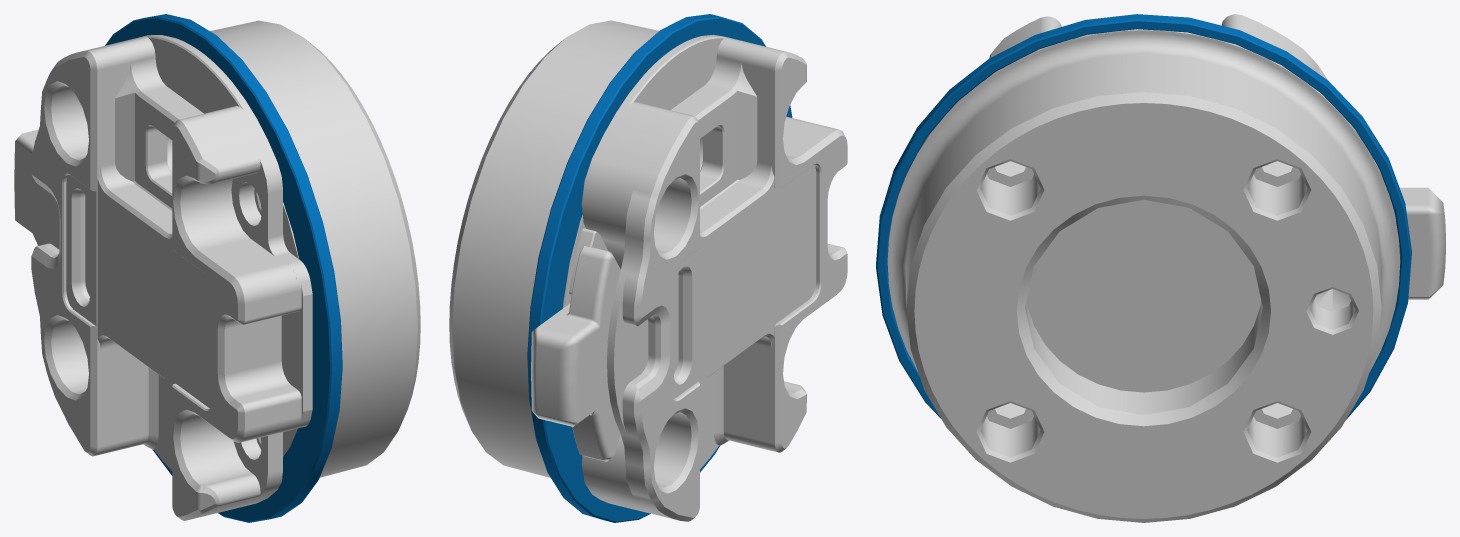
File: mount_tool_side_render.glb
3 views of the same model, side by side, from view 1: azimuth 30°, elevation 25°; view 2: azimuth 150°, elevation 25°; view 3: azimuth 270°, elevation 25° (orthographic). The views are drawn at different scales.
Visible parts, largest first — view 1: SM_FrankaEmikaRobot_link8_ToolSide_Visual; view 2: SM_FrankaEmikaRobot_link8_ToolSide_Visual; view 3: SM_FrankaEmikaRobot_link8_ToolSide_Visual.
Boxes of the visible parts, x1=… form: SM_FrankaEmikaRobot_link8_ToolSide_Visual: x1=14, y1=14, x2=420, y2=522; SM_FrankaEmikaRobot_link8_ToolSide_Visual: x1=449, y1=14, x2=847, y2=522; SM_FrankaEmikaRobot_link8_ToolSide_Visual: x1=876, y1=14, x2=1445, y2=522.
Size of the model in its own units: 0.0284 by 0.071 by 0.0755.
